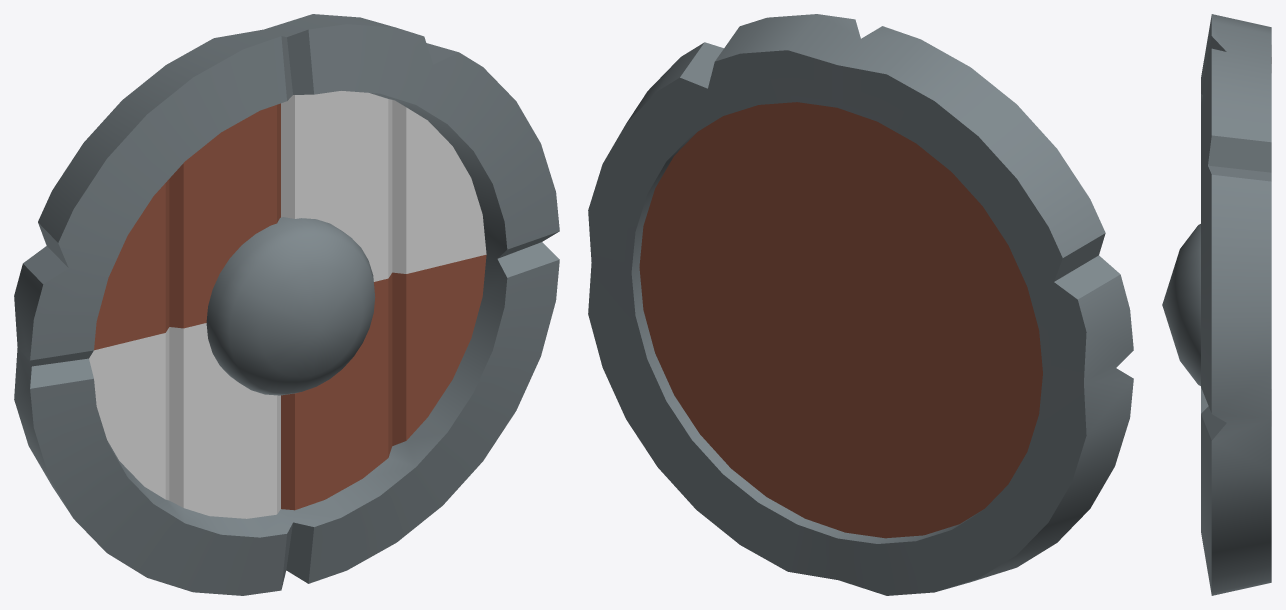
Rendered from kaykit-shield-common.glb.
The picture shows the model from 3 angles, left to right: view 1: azimuth 30°, elevation 25°; view 2: azimuth 150°, elevation 25°; view 3: azimuth 270°, elevation 25°; orthographic projection. The views are drawn at different scales.
Visible parts, largest first — view 1: shield_common; view 2: shield_common; view 3: shield_common.
Boxes of the visible parts, x1=… form: shield_common: x1=14, y1=14, x2=559, y2=595; shield_common: x1=588, y1=14, x2=1133, y2=595; shield_common: x1=1162, y1=14, x2=1271, y2=595.
Size of the model in its own units: 0.6879 by 0.6879 by 0.13.
